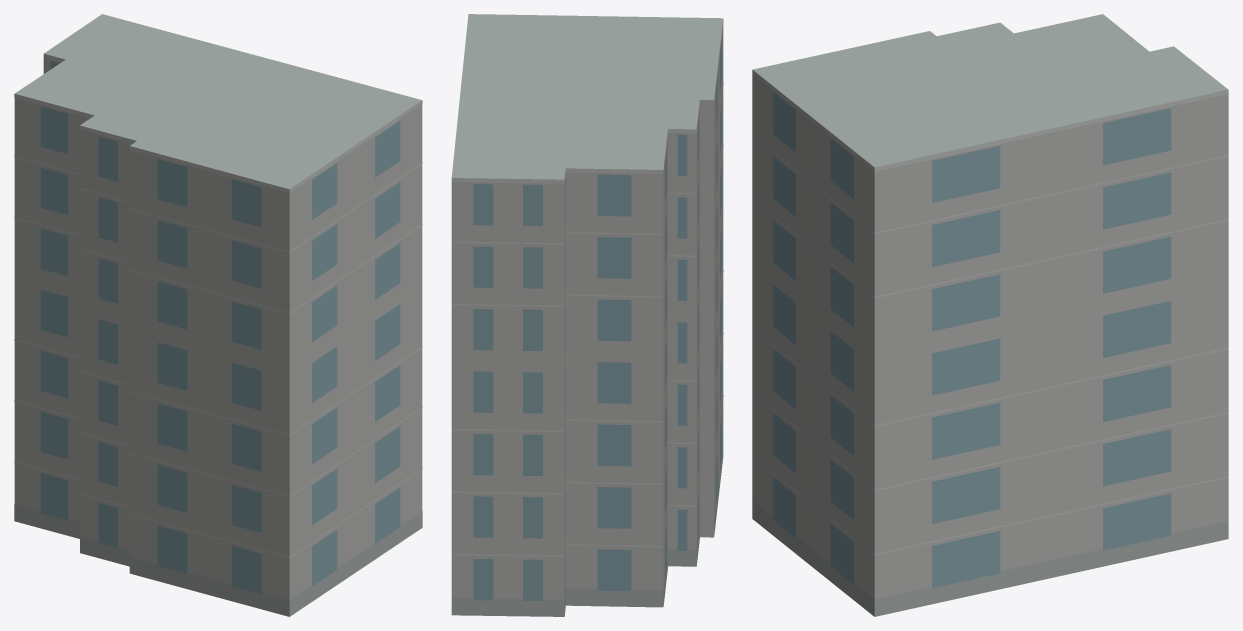
The model's file is survey-upis-32646032.glb.
3 views of the same model, side by side, from view 1: azimuth 30°, elevation 25°; view 2: azimuth 150°, elevation 25°; view 3: azimuth 270°, elevation 25° (orthographic). The views are drawn at different scales.
Visible parts, largest first — view 1: survey-upis-32646032.tmp; view 2: survey-upis-32646032.tmp; view 3: survey-upis-32646032.tmp.
Boxes of the visible parts, <box> form: survey-upis-32646032.tmp: <box>14,14,422,616</box>; survey-upis-32646032.tmp: <box>451,14,723,616</box>; survey-upis-32646032.tmp: <box>752,14,1228,616</box>.
Size of the model in its own units: 18.45 by 25.15 by 24.17.
